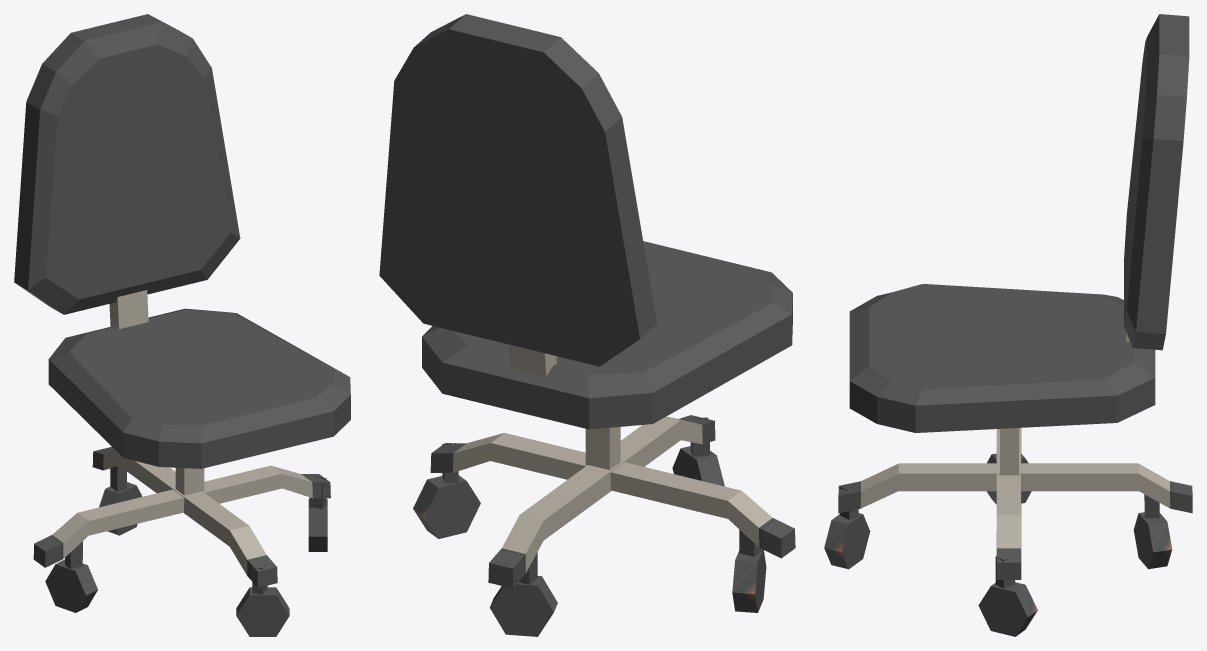
The model's file is SM_Chairs_01.fbx.
3 renders of one model, left to right at view 1: azimuth 30°, elevation 25°; view 2: azimuth 150°, elevation 25°; view 3: azimuth 270°, elevation 25°, orthographic. The views are drawn at different scales.
Visible parts, largest first — view 1: SM_Chairs_01; view 2: SM_Chairs_01; view 3: SM_Chairs_01.
Part boxes in pixels (box(x1,y1,x2,y2)): SM_Chairs_01: box(14, 14, 350, 636); SM_Chairs_01: box(379, 14, 795, 636); SM_Chairs_01: box(824, 14, 1192, 636).
Bounding box in the file's own units: 87.09 × 138 × 87.09.
